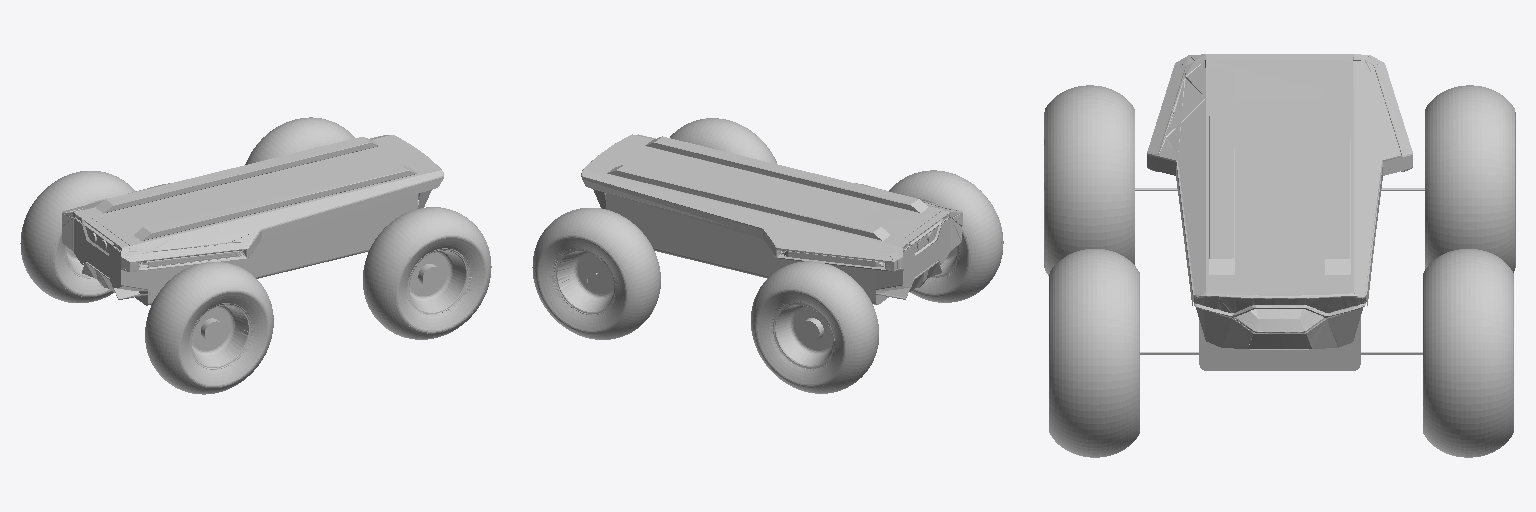
URDF robot description (yhs_chassis_description):
<?xml version="1.0"?>
<robot name="yhs_chassis_description">
  <link name="base_link">
    <visual>
      <origin
        xyz="-0.5 -0.37 -0.17"
        rpy="0 0 0" />
      <geometry>
        <mesh
          filename="package://yhs_chassis_description/meshes/MK-mid-BASE.STL"/>
      </geometry>
      <material
        name="">
        <color
          rgba="0.8 0.8 0.8 1" />
      </material>
    </visual>
  </link>

  <link name="front_left_wheel">
    <visual>
      <origin
        xyz="0 0 0"
        rpy="0 0 0" />
      <geometry>
        <mesh
          filename="package://yhs_chassis_description/meshes/MK-mid-WHEEL.STL"/>
      </geometry>
      <material
        name="">
        <color
          rgba="0.8 0.8 0.8 1" />
      </material>
    </visual>
  </link>

  <joint name="front_left_wheel_joint" type="continuous">
    <axis xyz="0 0 1"/>
    <parent link="base_link"/>
    <child link="front_left_wheel"/>
    <origin rpy="0 0 0" xyz="-0.5 0.22 -0.17"/>
    <limit effort="100" velocity="100"/>
    <joint_properties damping="0.0" friction="0.0"/>
  </joint>

  <link name="front_right_wheel">
    <visual>
      <origin
        xyz="0 0 0"
        rpy="0 0 0" />
      <geometry>
        <mesh
          filename="package://yhs_chassis_description/meshes/MK-mid-WHEEL.STL"/>
      </geometry>
      <material
        name="">
        <color
          rgba="0.8 0.8 0.8 1" />
      </material>
    </visual>
  </link>

  <joint name="front_right_wheel_joint" type="continuous">
    <axis xyz="0 0 1"/>
    <parent link="base_link"/>
    <child link="front_right_wheel"/>
    <origin rpy="0 0 0" xyz="-0.5 -0.36 -0.17"/>
    <limit effort="100" velocity="100"/>
    <joint_properties damping="0.0" friction="0.0"/>
  </joint>
</robot>

--- What the picture shows (computed from the rendered views, not written in the file) ---
Views: 3 orthographic renders of the robot side by side, from view 1: azimuth 30°, elevation 25°; view 2: azimuth 150°, elevation 25°; view 3: azimuth 270°, elevation 25°.
Model yhs_chassis_description with 3 links and 2 joints (2 continuous), rooted at base_link, posed every joint at zero.
Links seen in each view (by area): view 1: base_link, front_right_wheel, front_left_wheel; view 2: base_link, front_left_wheel, front_right_wheel; view 3: base_link, front_left_wheel, front_right_wheel.
Link boxes in pixels (x1=…): base_link: x1=20, y1=135, x2=443, y2=394; front_right_wheel: x1=363, y1=207, x2=491, y2=339; front_left_wheel: x1=245, y1=117, x2=354, y2=164; base_link: x1=581, y1=134, x2=1003, y2=393; front_left_wheel: x1=532, y1=208, x2=660, y2=339; front_right_wheel: x1=670, y1=118, x2=776, y2=163; base_link: x1=1044, y1=54, x2=1515, y2=370; front_left_wheel: x1=1423, y1=249, x2=1513, y2=457; front_right_wheel: x1=1049, y1=249, x2=1139, y2=457.
Size in the robot's own frame: 0.9246 by 0.7312 by 0.3483 metres.
Meshes: 2 distinct files referenced, 3 mesh visuals loaded (2 binary STL).
